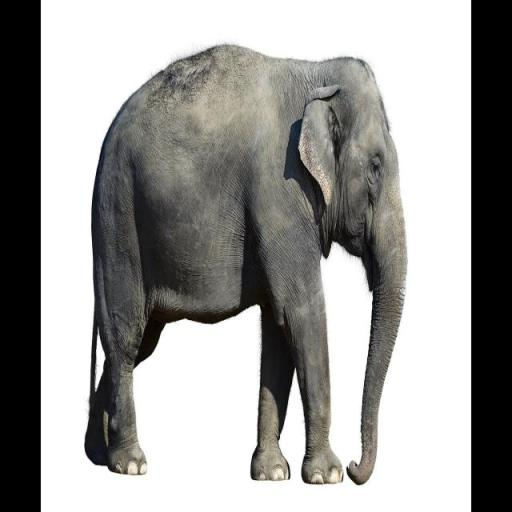Elephant: (84, 41, 408, 486)
